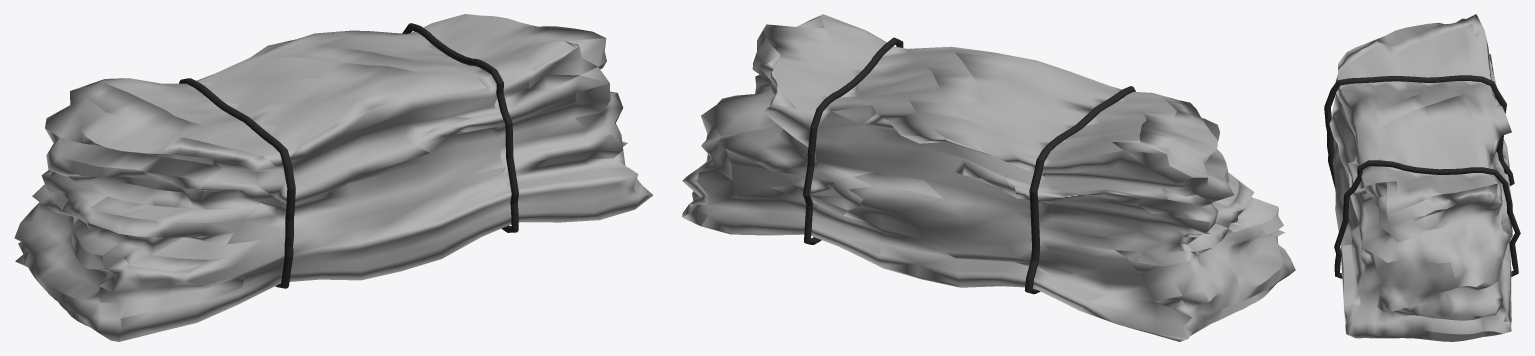
The model's file is SM_Tarpaulin_White_D.fbx.
The picture shows the model from 3 angles, left to right: view 1: azimuth 30°, elevation 25°; view 2: azimuth 150°, elevation 25°; view 3: azimuth 270°, elevation 25°; orthographic projection. The views are drawn at different scales.
Visible parts, largest first — view 1: SM_Tarpaulin_White_D; view 2: SM_Tarpaulin_White_D; view 3: SM_Tarpaulin_White_D.
Boxes of the visible parts, bbox=[...] form: SM_Tarpaulin_White_D: bbox=[14, 14, 653, 341]; SM_Tarpaulin_White_D: bbox=[682, 14, 1295, 341]; SM_Tarpaulin_White_D: bbox=[1324, 14, 1520, 341].
Size of the model in its own units: 169 by 51.96 by 64.74.
